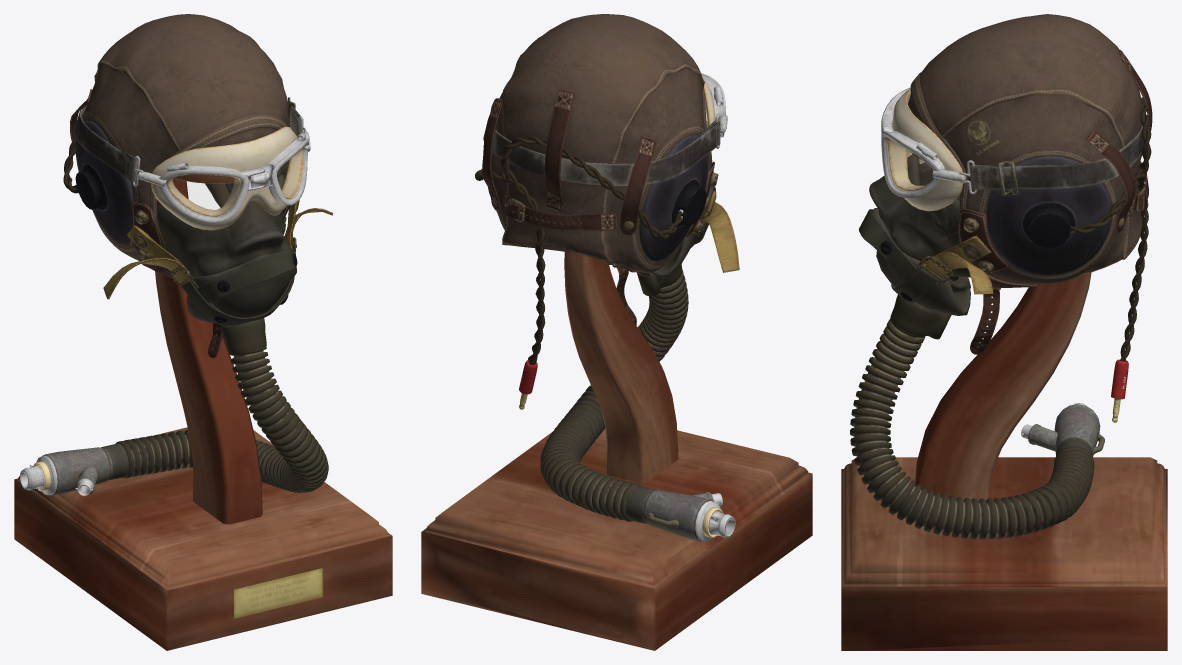
File: flight_helmet.glb
The picture shows the model from 3 angles, left to right: view 1: azimuth 30°, elevation 25°; view 2: azimuth 150°, elevation 25°; view 3: azimuth 270°, elevation 25°; orthographic projection. The views are drawn at different scales.
Parts seen in each view (by area): view 1: RubberWood_low, LeatherParts_low, MetalParts_low, GlassPlastic_low, Hose_low, Lenses_low; view 2: RubberWood_low, LeatherParts_low, Hose_low, MetalParts_low, GlassPlastic_low; view 3: RubberWood_low, LeatherParts_low, Hose_low, GlassPlastic_low, MetalParts_low, Lenses_low.
Boxes of the visible parts, box(x1,y1,x2,y2) form: RubberWood_low: box(14, 100, 392, 650); LeatherParts_low: box(70, 14, 290, 358); MetalParts_low: box(20, 97, 322, 618); GlassPlastic_low: box(75, 120, 304, 244); Hose_low: box(115, 347, 328, 492); Lenses_low: box(165, 144, 307, 217); RubberWood_low: box(421, 114, 812, 650); LeatherParts_low: box(482, 14, 714, 325); Hose_low: box(540, 270, 688, 521); MetalParts_low: box(492, 73, 735, 541); GlassPlastic_low: box(487, 76, 715, 261); RubberWood_low: box(841, 97, 1167, 650); LeatherParts_low: box(908, 14, 1152, 354); Hose_low: box(850, 318, 1094, 539); GlassPlastic_low: box(887, 88, 1111, 275); MetalParts_low: box(880, 87, 1146, 457); Lenses_low: box(883, 137, 933, 192).
Bounding box in the file's own units: 0.3666 × 0.716 × 0.3716.
Materials: 6 (6 with a texture image).
